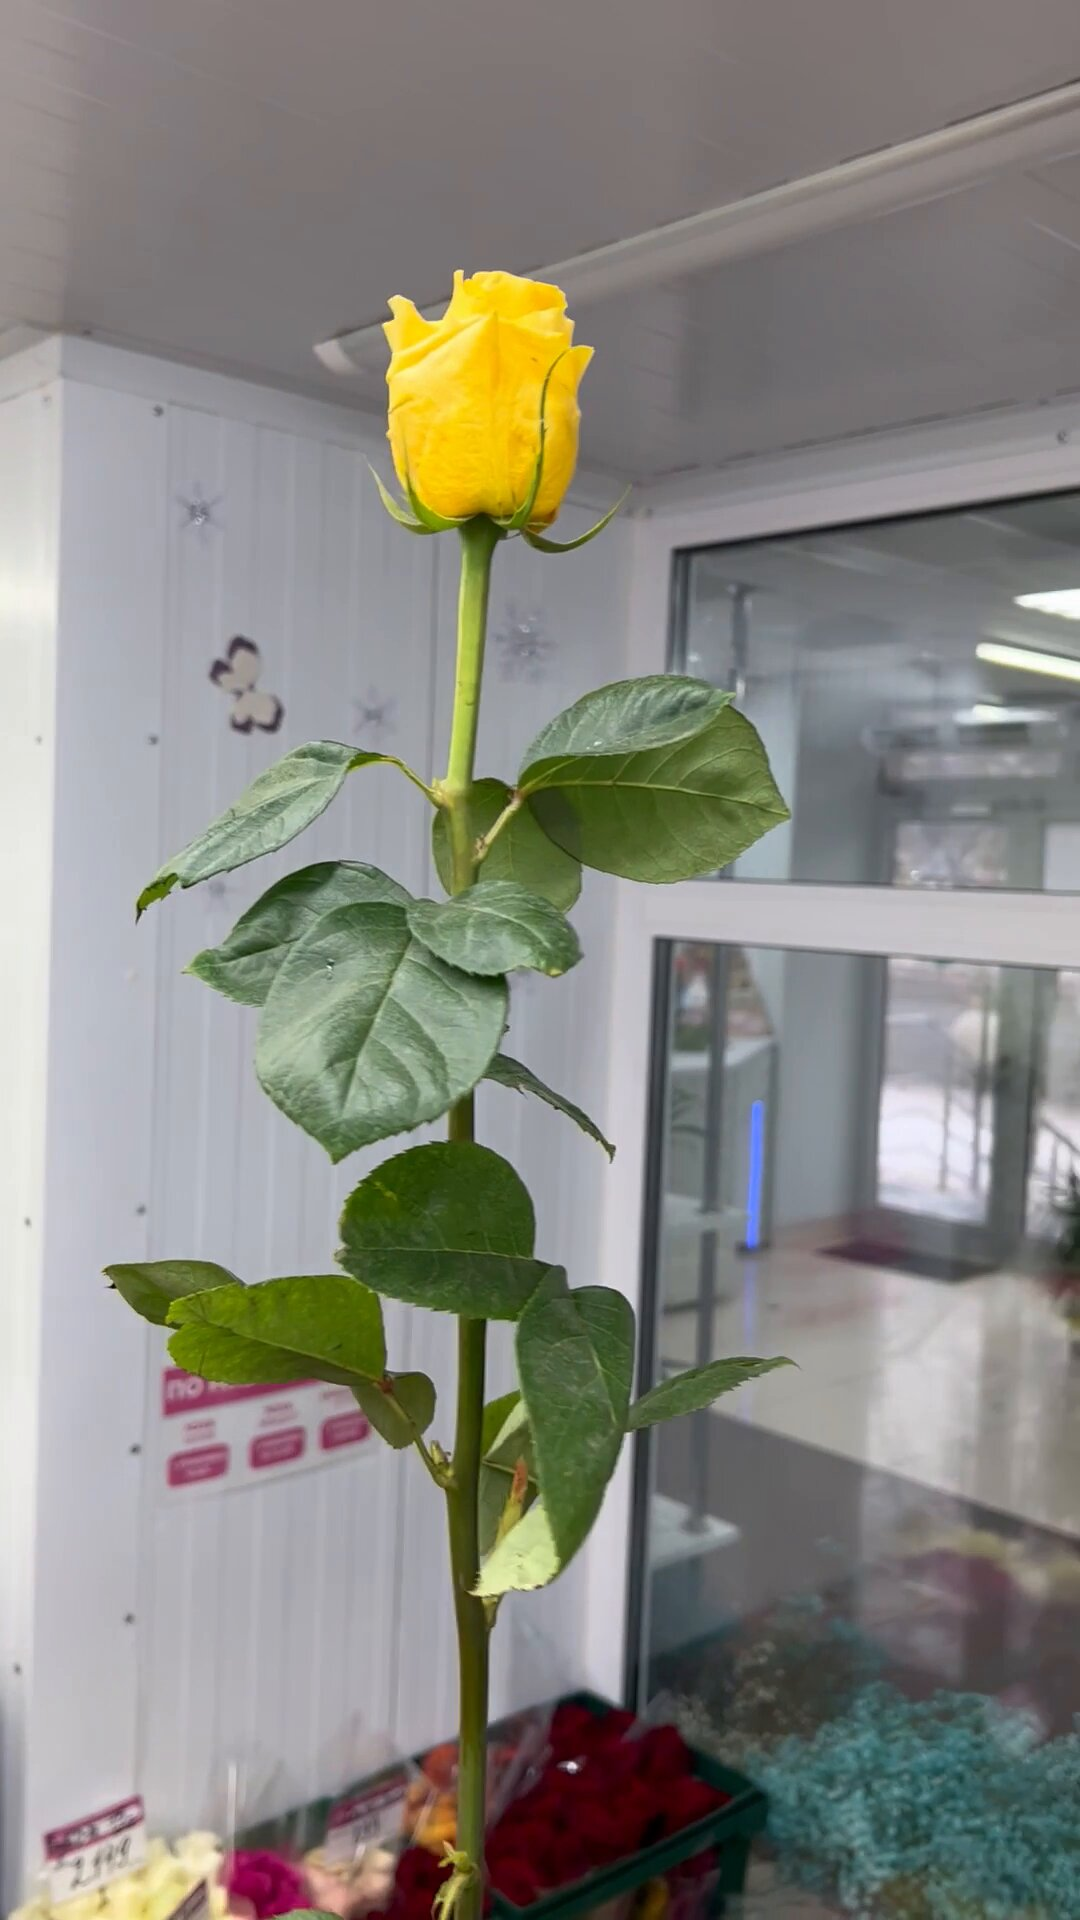rose: (164, 260, 800, 1778)
